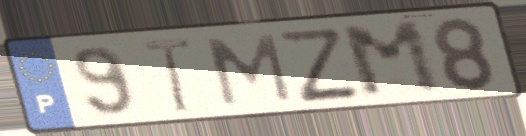8: (429, 15, 499, 93)
9: (70, 43, 139, 119)
M: (336, 17, 448, 101), (202, 31, 296, 108)
T: (139, 35, 196, 116)
Z: (273, 26, 365, 106)
